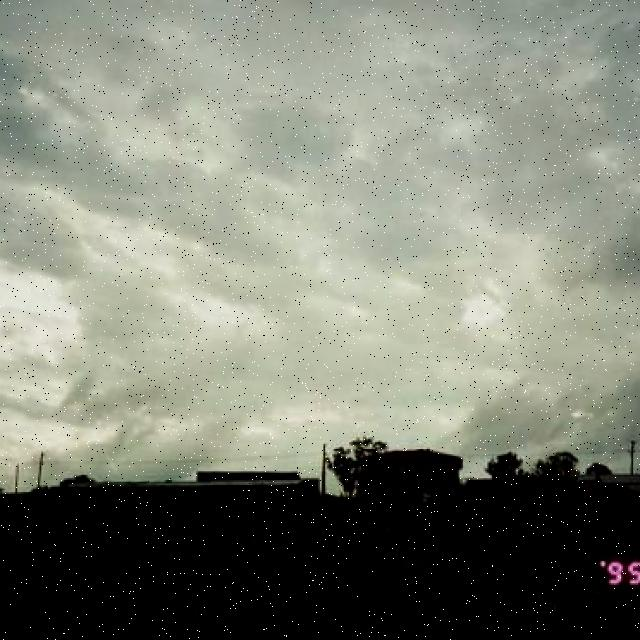St: (1, 15, 640, 437)
